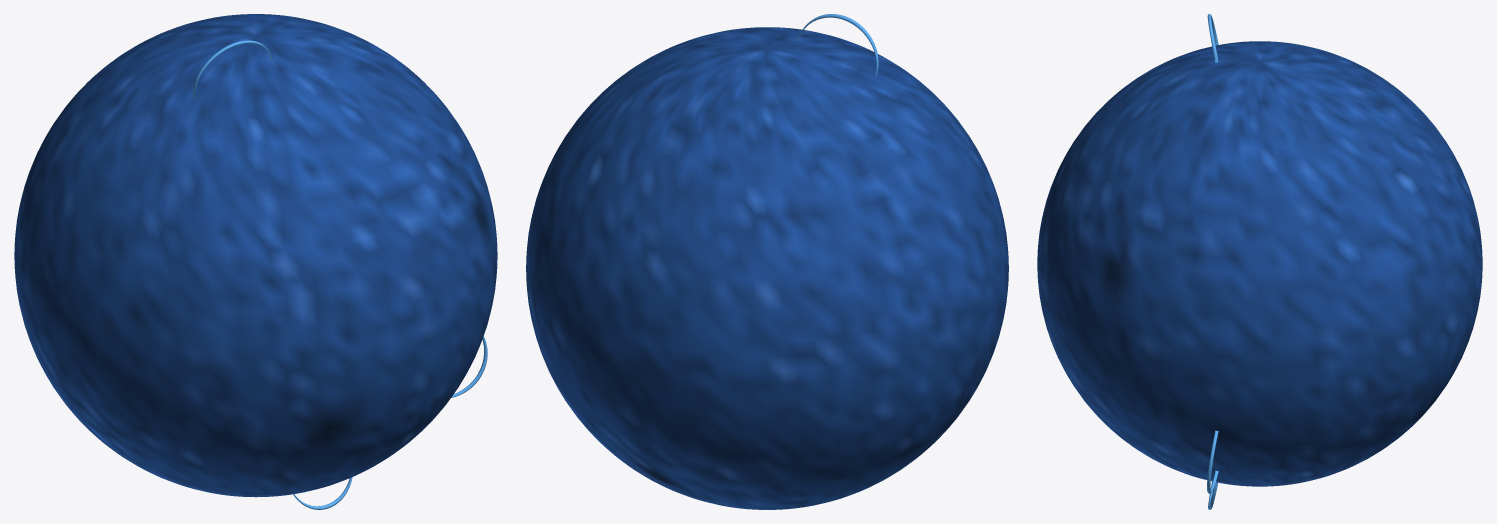
File: Star_25.fbx
The picture shows the model from 3 angles, left to right: view 1: azimuth 30°, elevation 25°; view 2: azimuth 150°, elevation 25°; view 3: azimuth 270°, elevation 25°; orthographic projection. The views are drawn at different scales.
Parts seen in each view (by area): view 1: Star_25; view 2: Star_25; view 3: Star_25.
Part boxes in pixels (box(x1,y1,x2,y2)): Star_25: box(14, 14, 497, 509); Star_25: box(526, 14, 1008, 509); Star_25: box(1037, 14, 1482, 509).
Bounding box in the file's own units: 200 × 223 × 200.
